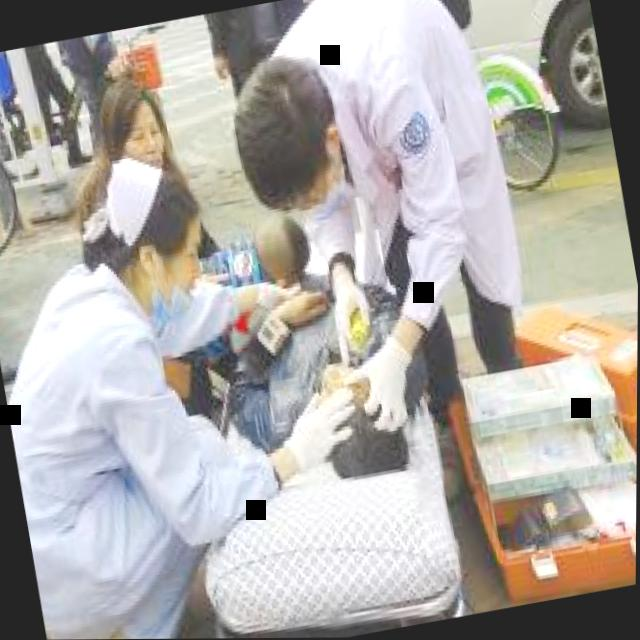Fall-Detected: (177, 210, 457, 514)
